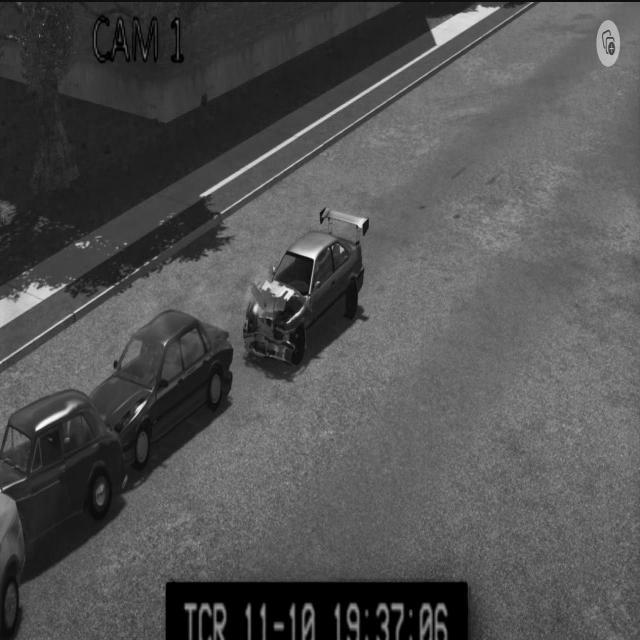accident: (0, 302, 236, 577), (240, 200, 378, 376)
